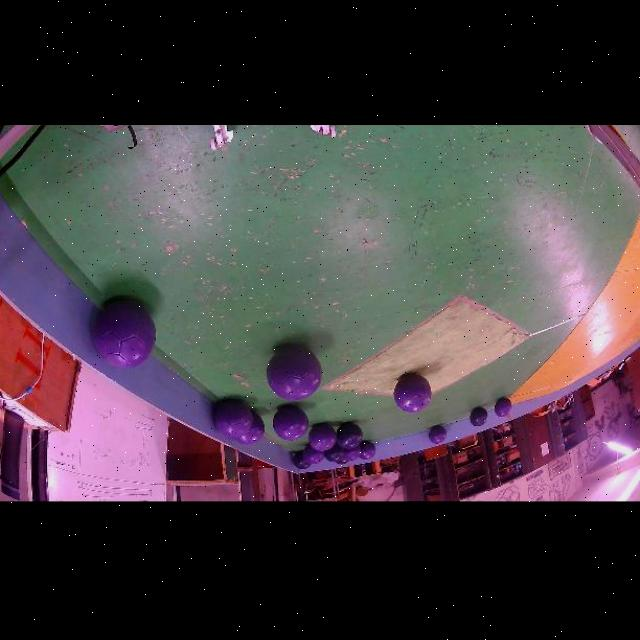B: (337, 423, 362, 450), (324, 445, 345, 463), (470, 408, 487, 428), (293, 452, 311, 470)
P: (94, 301, 155, 369), (266, 347, 323, 402), (393, 374, 431, 414), (213, 400, 253, 438), (273, 407, 308, 441), (235, 413, 265, 446), (308, 424, 337, 451), (303, 445, 324, 465), (494, 398, 512, 417), (428, 427, 447, 445), (359, 442, 376, 461), (344, 446, 362, 462)
